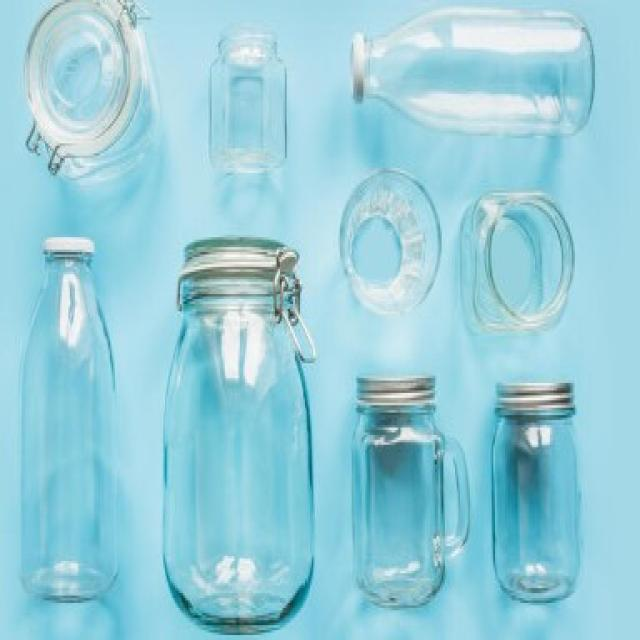electronic: (10, 1, 598, 638)
